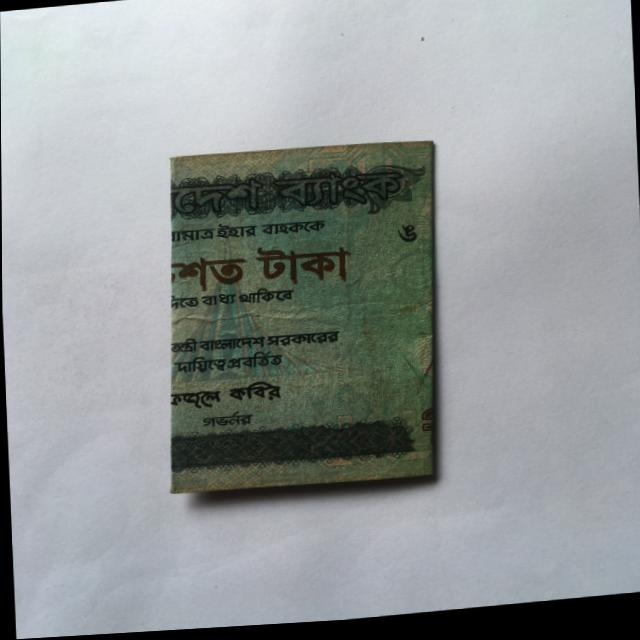Taka: (162, 140, 450, 493)
